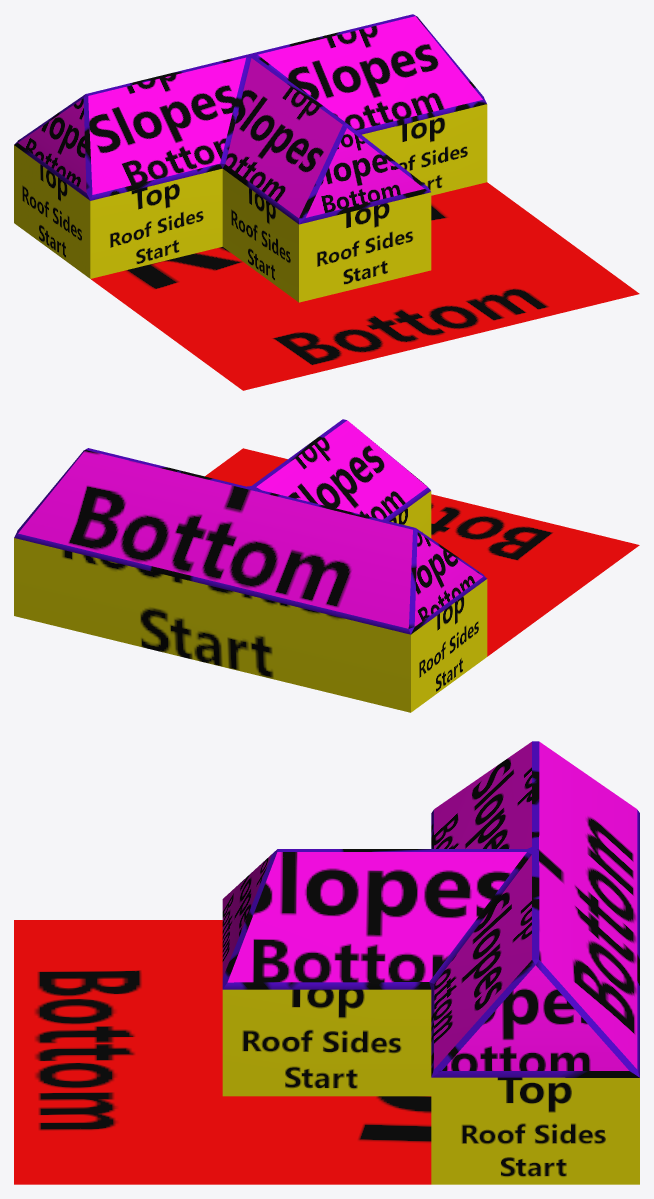
The model's file is ENV_Roof_ThreeXThree_TypeSix.fbx.
3 views of the same model, one above another, from view 1: azimuth 30°, elevation 25°; view 2: azimuth 150°, elevation 25°; view 3: azimuth 270°, elevation 25° (orthographic). The views are drawn at different scales.
Visible parts, largest first — view 1: ENV_ThreebyThreeRoof6; view 2: ENV_ThreebyThreeRoof6; view 3: ENV_ThreebyThreeRoof6.
Boxes of the visible parts, box(x1,y1,x2,y2) form: ENV_ThreebyThreeRoof6: box(14, 14, 639, 390); ENV_ThreebyThreeRoof6: box(14, 419, 639, 712); ENV_ThreebyThreeRoof6: box(14, 741, 639, 1184).
Bounding box in the file's own units: 36 × 12.8 × 36.
